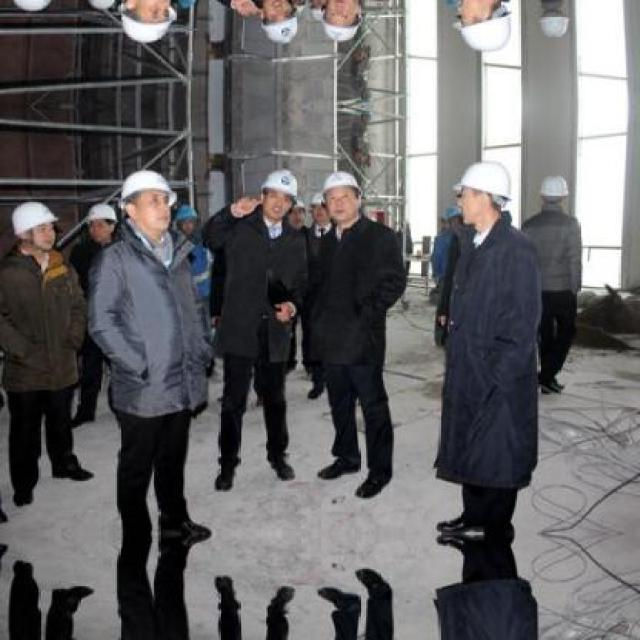helmet: (453, 158, 513, 226), (118, 166, 178, 233), (452, 0, 514, 56), (117, 0, 178, 48), (9, 196, 58, 250), (320, 166, 363, 224), (320, 0, 365, 48), (258, 167, 298, 220), (258, 0, 299, 46), (534, 171, 571, 216), (534, 0, 572, 42), (83, 202, 117, 242), (307, 190, 330, 228), (9, 0, 60, 17), (177, 199, 198, 237), (306, 0, 331, 23), (83, 0, 118, 12), (177, 0, 200, 14)
